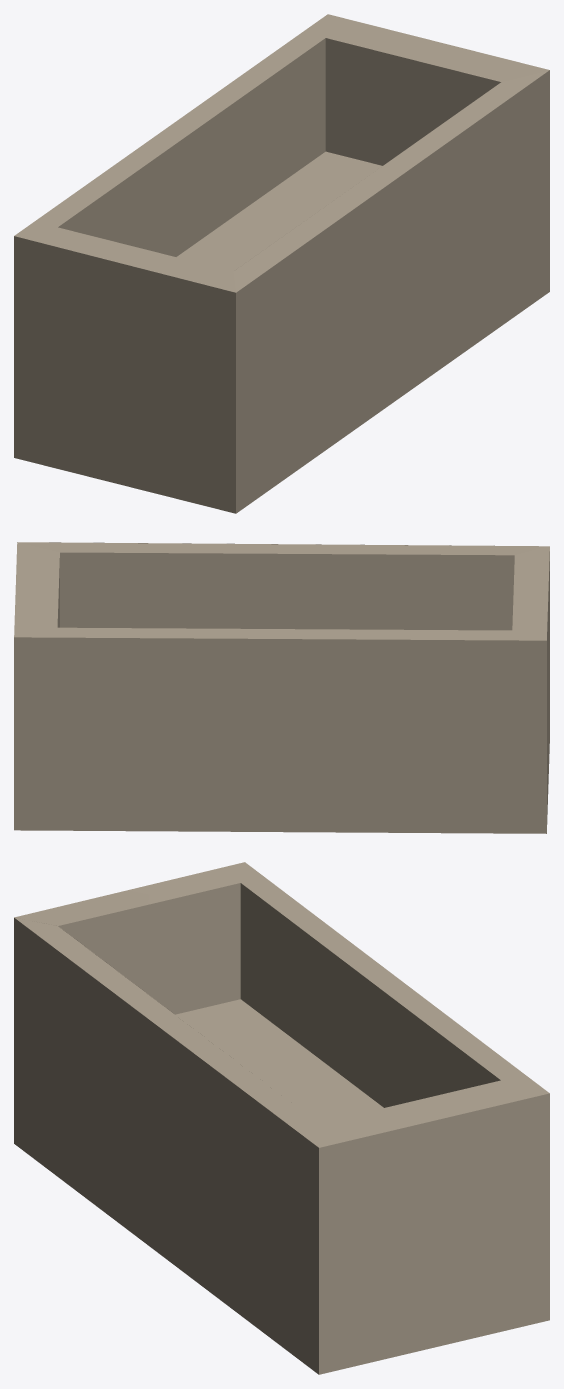
The model's file is MSH_QuestObject_box_02.fbx.
The picture shows the model from 3 angles, top to bottom: view 1: azimuth 30°, elevation 25°; view 2: azimuth 150°, elevation 25°; view 3: azimuth 270°, elevation 25°; orthographic projection. The views are drawn at different scales.
Parts seen in each view (by area): view 1: MSH_QuestObject_box_02; view 2: MSH_QuestObject_box_02; view 3: MSH_QuestObject_box_02.
Part boxes in pixels (x1,y1,x2,y2): MSH_QuestObject_box_02: (14,14,549,513); MSH_QuestObject_box_02: (14,542,549,833); MSH_QuestObject_box_02: (14,862,549,1374).
Size of the model in its own units: 1.25 by 0.4633 by 0.9912.
